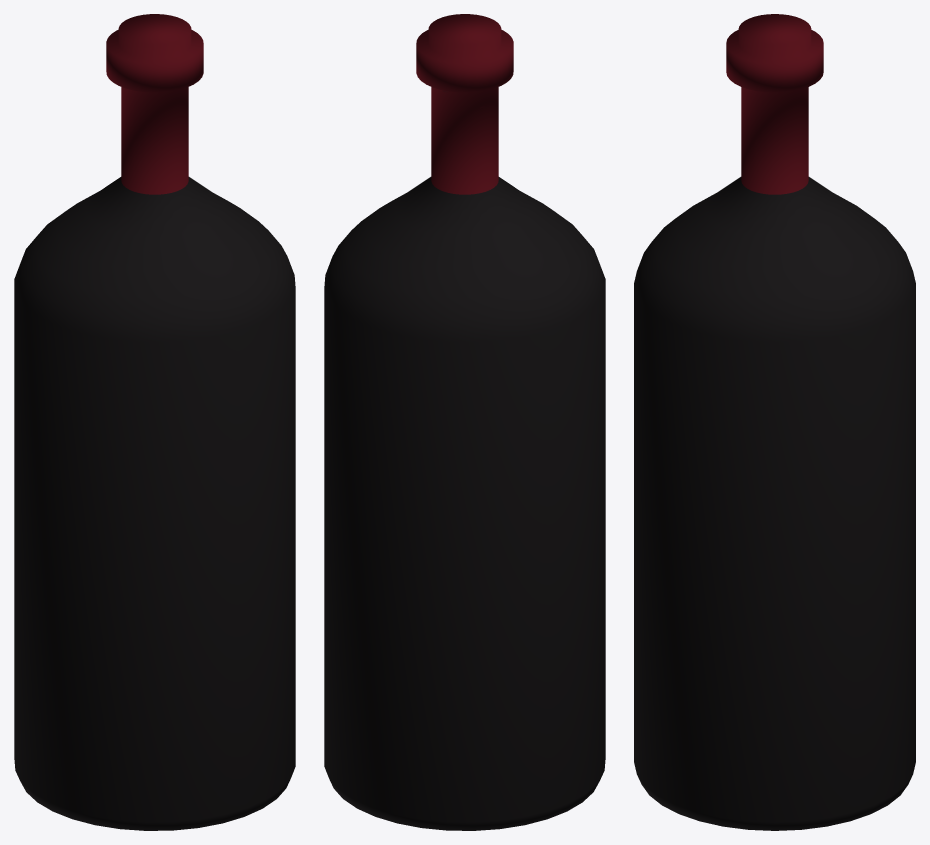
The model's file is wineBottle.fbx.
3 renders of one model, left to right at view 1: azimuth 30°, elevation 25°; view 2: azimuth 150°, elevation 25°; view 3: azimuth 270°, elevation 25°, orthographic.
Parts seen in each view (by area): view 1: Circle.001; view 2: Circle.001; view 3: Circle.001.
Part boxes in pixels (x1,y1,x2,y2): Circle.001: (14,14,295,830); Circle.001: (324,14,605,830); Circle.001: (634,14,915,830).
Bounding box in the file's own units: 24.49 × 71.39 × 24.49.
Materials: 1 (1 with a texture image).
